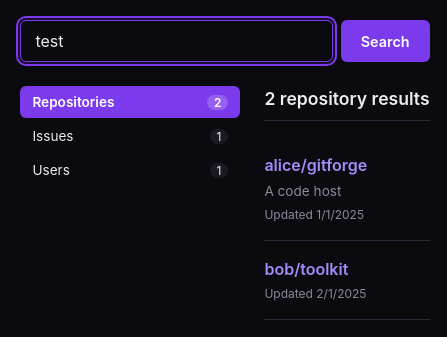
Test: SearchPage Component › displays repository results and switches to issues tab
The image size is (447, 337).
Expected: the heading "2 repository results" is shown, x1=264 y1=86 x2=430 y2=121
Expected: the link "alice/gitforge" is shown, x1=264 y1=155 x2=367 y2=175
Click the button "Issues 1".
click(130, 136)  # box x1=20 y1=120 x2=240 y2=152
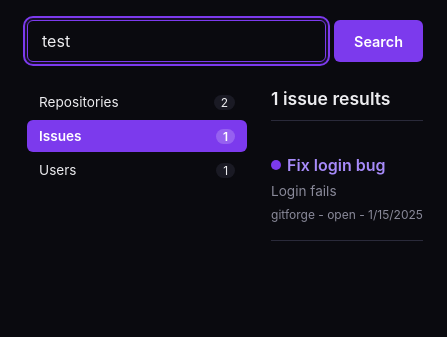
Now the heading "1 issue results" is shown, box x1=271 y1=86 x2=423 y2=121
Now the text "Fix login bug" is shown, box x1=271 y1=155 x2=386 y2=175
